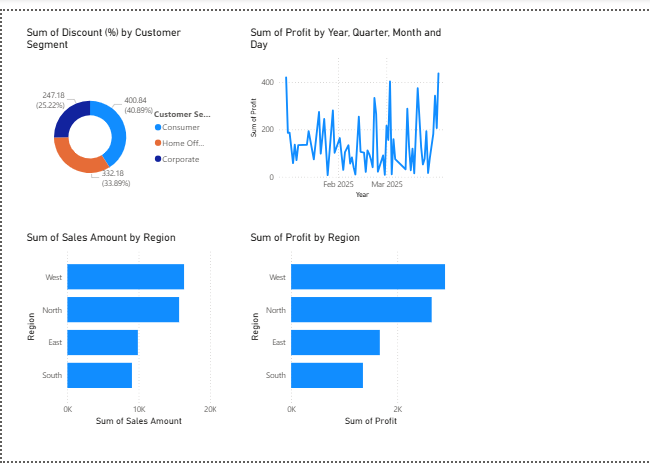

This screenshot's page, from the dashboard's own definition file:
{"tool":"powerbi","page":{"name":"Page 1","canvas":[1280,720],"ordinal":0},"visuals":[{"type":"donutChart","fields":{"Category":["Sheet1.Customer Segment"],"Y":["Sum(Sheet1.Discount (%))"]},"box":[34.3,24.7,314.2,317],"z":0},{"type":"lineChart","fields":{"Y":["Sum(Sheet1.Profit)"],"Category":["Sheet1.Order Date.Variation.Date Hierarchy.Year","Sheet1.Order Date.Variation.Date Hierarchy.Quarter","Sheet1.Order Date.Variation.Date Hierarchy.Month","Sheet1.Order Date.Variation.Date Hierarchy.Day"]},"box":[392.5,24.7,337.6,281.3],"z":1000},{"type":"barChart","fields":{"Y":["Sum(Sheet1.Sales Amount)"],"Category":["Sheet1.Region"]},"box":[34,352,314,317],"z":1001},{"type":"barChart","fields":{"Y":["Sum(Sheet1.Profit)"],"Category":["Sheet1.Region"]},"box":[392,352,338,317],"z":1002}]}

Visuals, with their boxes in screenshot pixels (x1, y1, x2, y2):
donutChart - Sheet1.Customer Segment x Sum(Sheet1.Discount (%)): BBox(0, 111, 169, 282)
lineChart - Sum(Sheet1.Profit) x Sheet1.Order Date.Variation.Date Hierarchy.Year: BBox(193, 111, 374, 263)
barChart - Sum(Sheet1.Sales Amount) x Sheet1.Region: BBox(0, 288, 169, 458)
barChart - Sum(Sheet1.Profit) x Sheet1.Region: BBox(192, 288, 374, 458)
